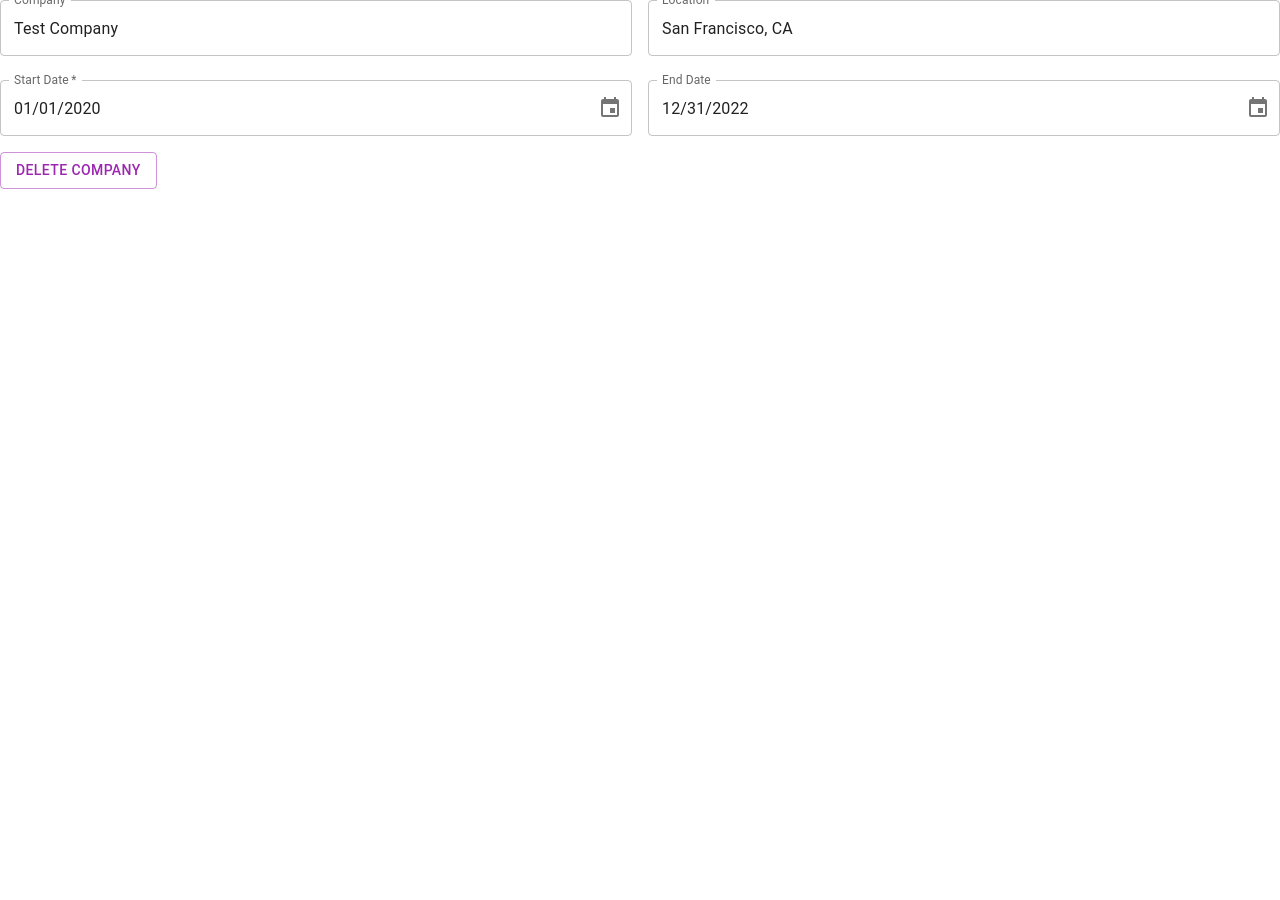
CompanyFields › Delete functionality › opens confirmation dialog when delete button is clicked
Click the button "Delete Company".
click(78, 170)  # box 0,152 -> 157,188
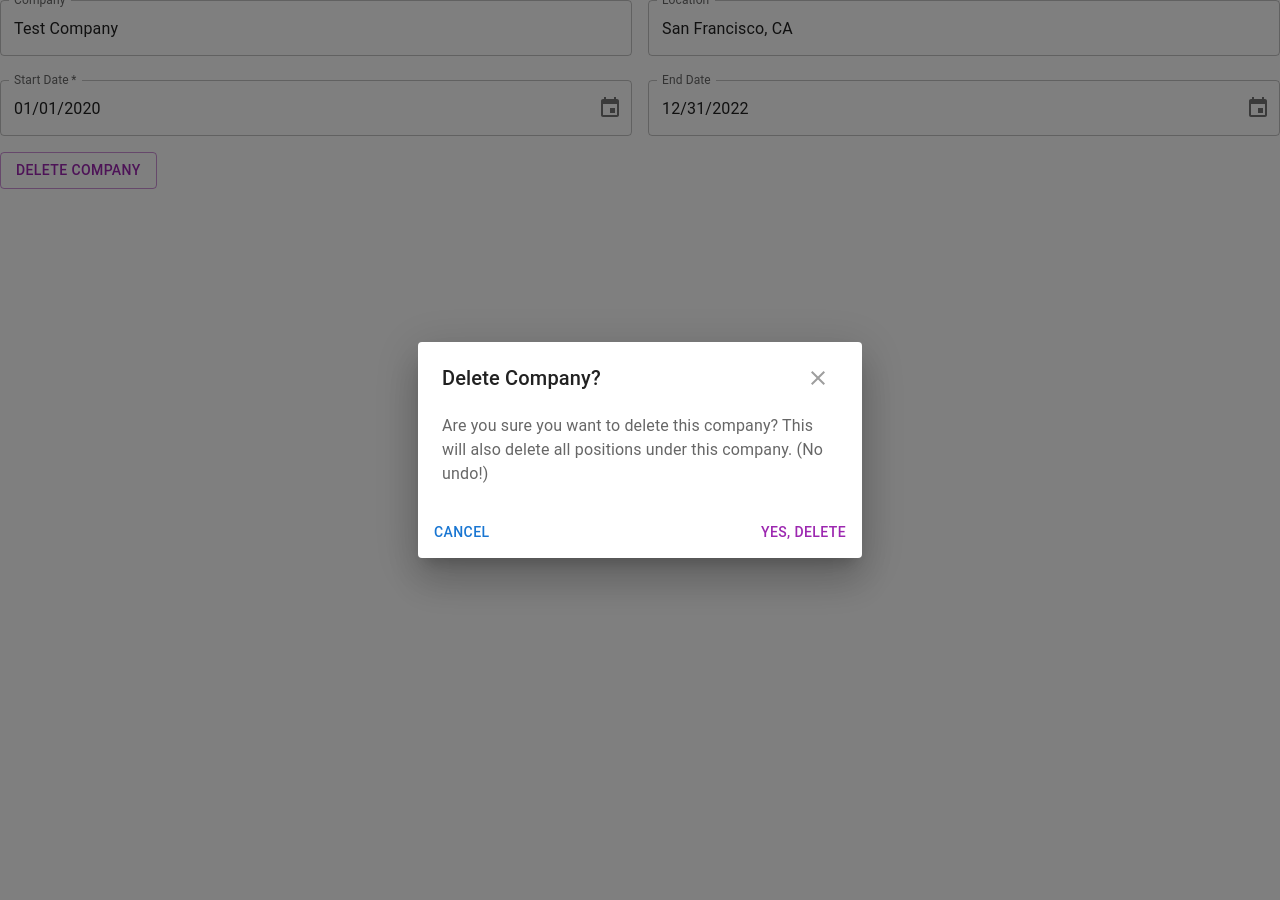
Check: the dialog is shown, box 418,342 -> 862,558
Check: the heading "Delete Company?" is shown, box 442,358 -> 838,398
